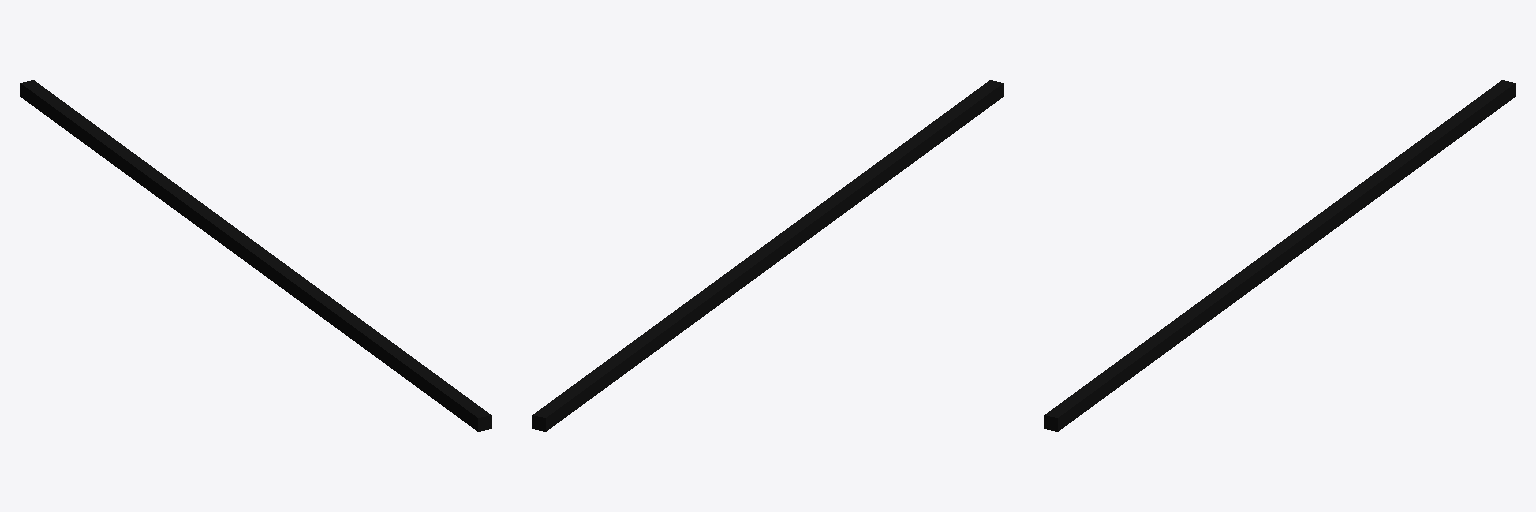
robot.urdf — sidewall:
<?xml version="1.0"?> 
<robot name="sidewall">
    <!-- Colors --> 
    <material name="gray"> 
        <color rgba="0.1 0.1 0.1 1"/>
    </material>


    <!-- Base Frame of Sidewall --> 
    <link name="base_link">
        <visual> 
            <geometry> 
                <box size="0.25 15. 0.25"/>
            </geometry>
            <material name="gray"/>
        </visual>
        <collision>
            <geometry>
                <box size="0.25 15. 0.25"/>
            </geometry>
      </collision>
    </link> 
    
</robot>

--- Facts derived from the render (not from the file) ---
3 views of the same robot in one strip: view 1: azimuth 30°, elevation 25°; view 2: azimuth 150°, elevation 25°; view 3: azimuth 330°, elevation 25° (orthographic).
Robot: sidewall — 1 links, 0 joints (none); root link base_link; default pose: all joints at 0.
Links seen in each view (by area): view 1: base_link; view 2: base_link; view 3: base_link.
Link boxes in pixels (x1,y1,x2,y2): base_link: (20, 80, 491, 431); base_link: (532, 80, 1003, 431); base_link: (1044, 80, 1515, 431).
Bounding box of the posed robot: 0.25 × 15 × 0.25 m (x, y, z).
Geometry: primitives only (box / cylinder / sphere), no mesh files.